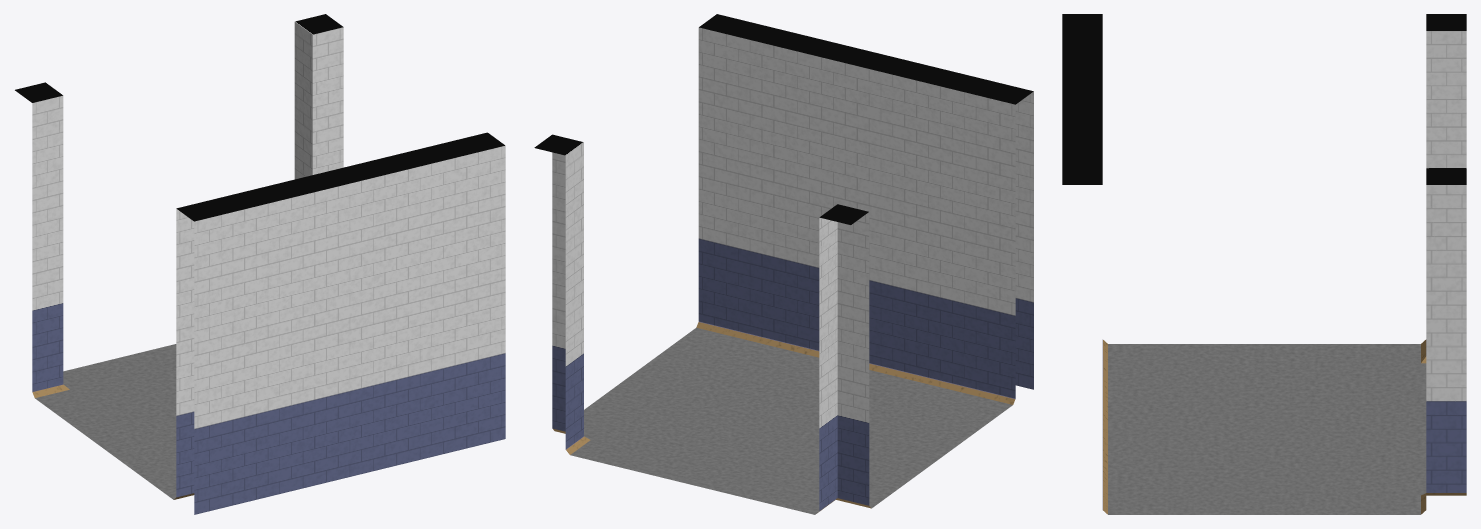
File: hallwayTCrossing.glb
The picture shows the model from 3 angles, left to right: view 1: azimuth 30°, elevation 25°; view 2: azimuth 150°, elevation 25°; view 3: azimuth 270°, elevation 25°; orthographic projection. The views are drawn at different scales.
Parts seen in each view (by area): view 1: hallwayTCrossing.001; view 2: hallwayTCrossing.001; view 3: hallwayTCrossing.001.
Boxes of the visible parts, x1,y1,x2,y2 form: hallwayTCrossing.001: (15,14,505,514); hallwayTCrossing.001: (534,14,1033,514); hallwayTCrossing.001: (1062,14,1466,514).
Size of the model in its own units: 10 by 9 by 10.
Materials: 1 (1 with a texture image).
